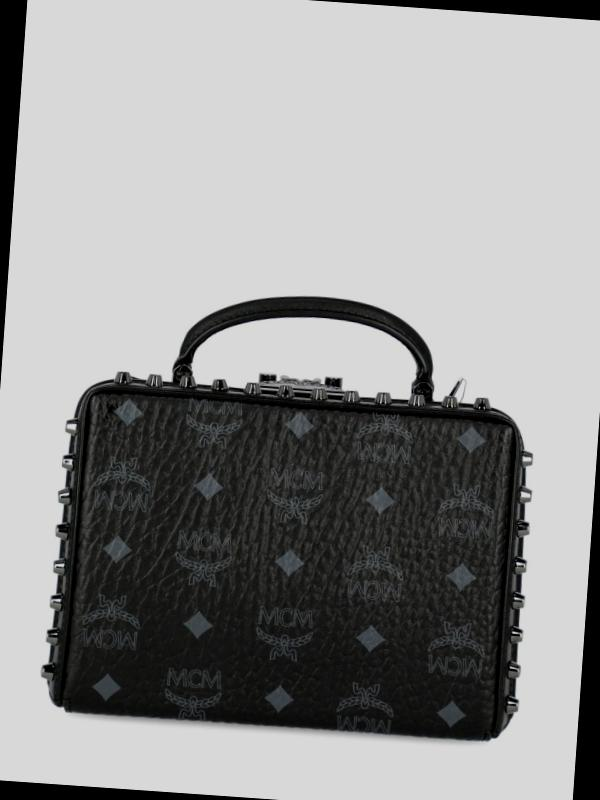MCM: (39, 369, 548, 753)
